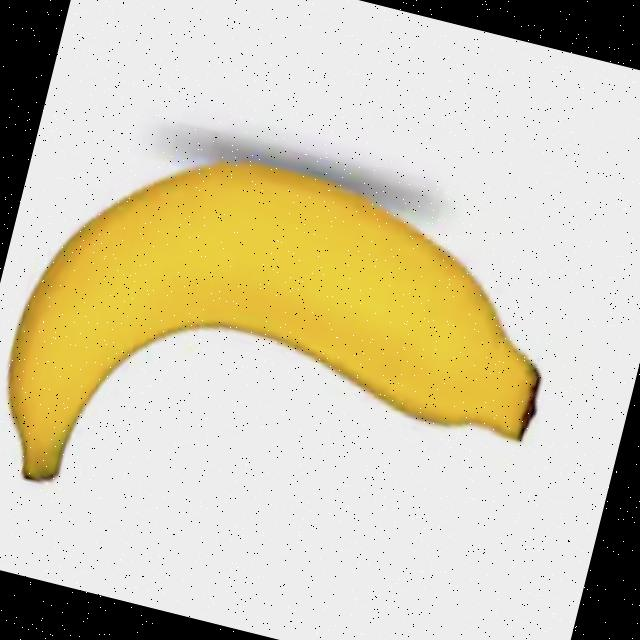Ripe: (0, 107, 578, 600)
